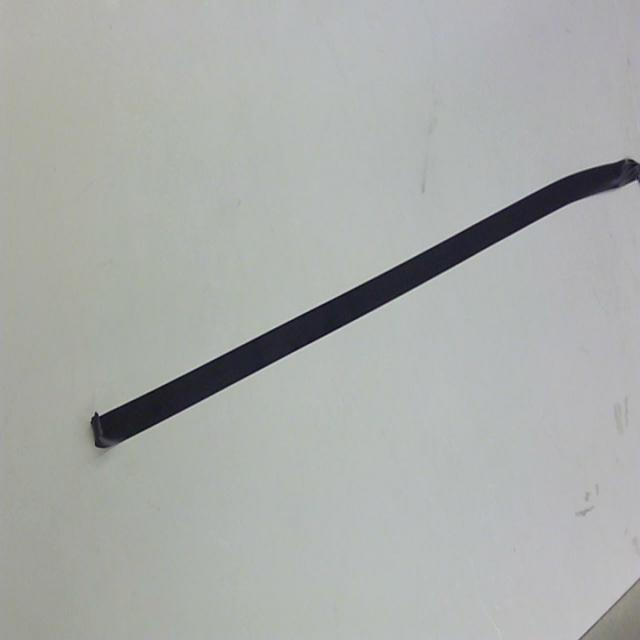tape: (78, 137, 640, 477)
